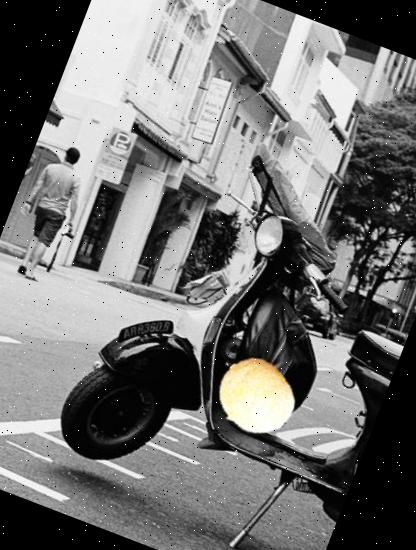Cantaloupe: (204, 346, 306, 449)
